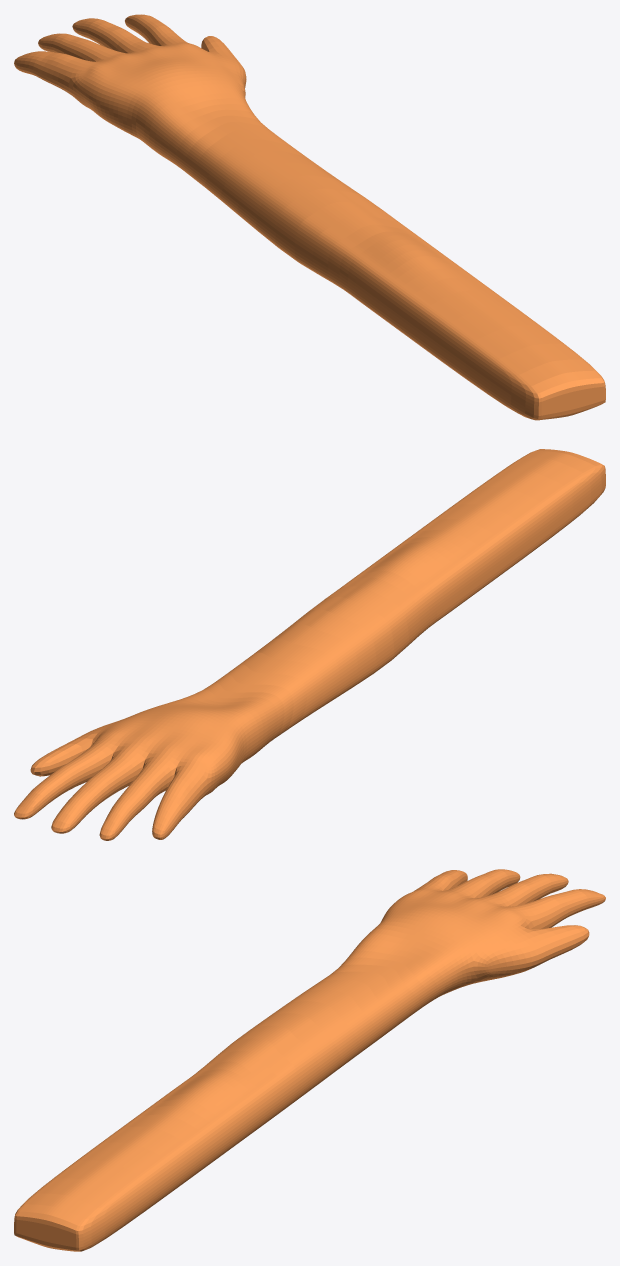
File: Hand.fbx
3 views of the same model, one above another, from view 1: azimuth 30°, elevation 25°; view 2: azimuth 150°, elevation 25°; view 3: azimuth 330°, elevation 25° (orthographic). The views are drawn at different scales.
Parts seen in each view (by area): view 1: HandBase.002; view 2: HandBase.002; view 3: HandBase.002.
Part boxes in pixels (x1,y1,x2,y2): HandBase.002: (14, 14, 605, 420); HandBase.002: (14, 449, 605, 840); HandBase.002: (14, 869, 605, 1251).
Size of the model in its own units: 269 by 97.52 by 1398.
